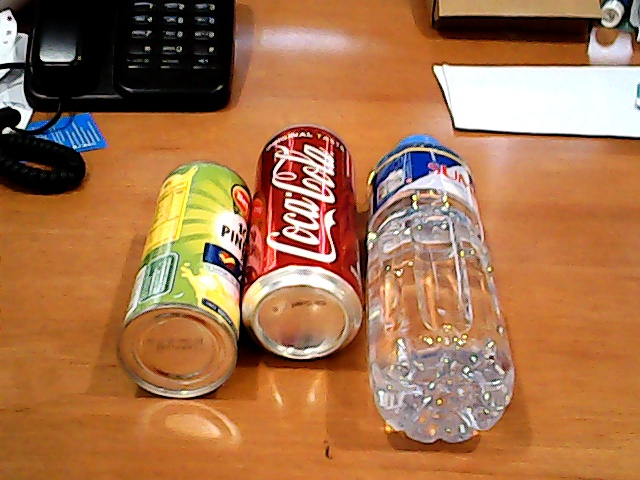Cola: (237, 111, 372, 377)
Pine Juice: (108, 144, 256, 410)
Summit Water: (348, 109, 526, 457)
